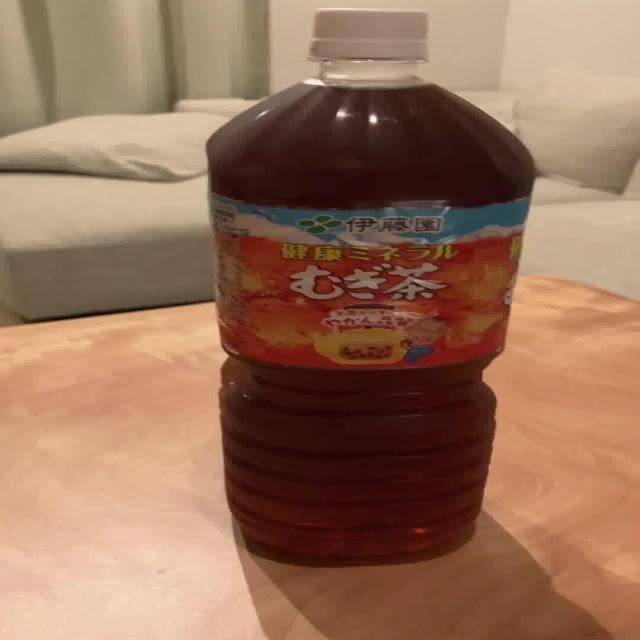good: (204, 6, 536, 568)
